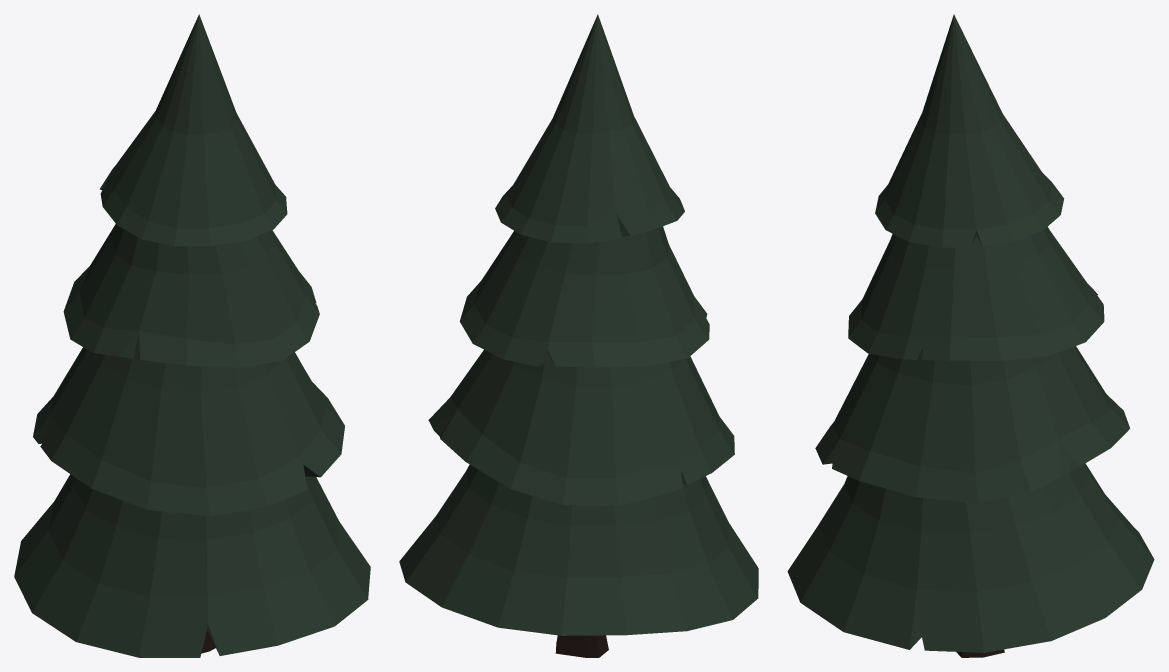
The model's file is Tree_Pine_2.fbx.
The picture shows the model from 3 angles, left to right: view 1: azimuth 30°, elevation 25°; view 2: azimuth 150°, elevation 25°; view 3: azimuth 270°, elevation 25°; orthographic projection. The views are drawn at different scales.
Parts seen in each view (by area): view 1: Pine2; view 2: Pine2; view 3: Pine2.
Part boxes in pixels (box(x1,y1,x2,y2)): Pine2: box(14, 14, 370, 657); Pine2: box(399, 14, 758, 657); Pine2: box(787, 14, 1154, 657).
Bounding box in the file's own units: 3.21 × 6.21 × 3.28.
